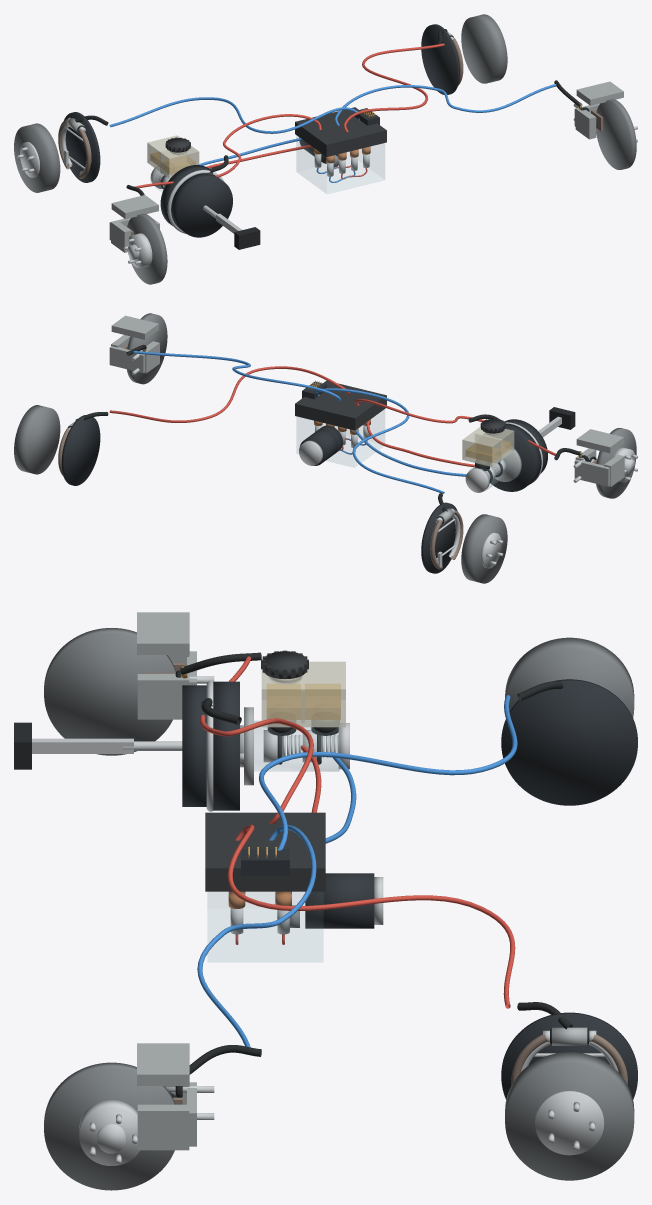
File: corolla_abs_on.glb
3 views of the same model, one above another, from view 1: azimuth 30°, elevation 25°; view 2: azimuth 150°, elevation 25°; view 3: azimuth 270°, elevation 25° (orthographic). The views are drawn at different scales.
Visible parts, largest first — view 1: Vacuum booster rear shell, ABS ECU sealed black electronic housing, RR REMOVED brake drum shell, ABS HCU machined aluminum hydraulic block, RF rotor friction disc, LR REMOVED brake drum shell, RR rear backing plate, LF rotor friction disc, LR rear backing plate, Dual chamber translucent fluid reservoir, ABS LR bent steel hardline, ABS RR bent steel hardline (+12 smaller); view 2: ABS ECU sealed black electronic housing, RR REMOVED brake drum shell, RR rear backing plate, LR REMOVED brake drum shell, Vacuum booster front shell, ABS HCU machined aluminum hydraulic block, Dual chamber translucent fluid reservoir, LR rear backing plate, RF rotor friction disc, LF rotor friction disc, ABS LR bent steel hardline, ABS RR bent steel hardline (+19 smaller); view 3: LR rear backing plate, LF rotor friction disc, RR REMOVED brake drum shell, RF rotor friction disc, ABS ECU sealed black electronic housing, ABS HCU machined aluminum hydraulic block, LR REMOVED brake drum shell, Dual chamber translucent fluid reservoir, RR rear backing plate, RR REMOVED drum mounting face, ABS pump motor, Vacuum booster front shell (+17 smaller).
Part boxes in pixels (x1,y1,x2,y2): Vacuum booster rear shell: (171,173,232,237); ABS ECU sealed black electronic housing: (295,107,386,156); RR REMOVED brake drum shell: (461,14,507,83); ABS HCU machined aluminum hydraulic block: (296,136,384,193); RF rotor friction disc: (596,99,636,169); LR REMOVED brake drum shell: (14,123,60,192); RR rear backing plate: (421,24,459,94); LF rotor friction disc: (127,213,167,284); LR rear backing plate: (64,112,100,182); Dual chamber translucent fluid reservoir: (147,135,199,178); ABS LR bent steel hardline: (109,97,359,133); ABS RR bent steel hardline: (343,43,444,132); ABS ECU sealed black electronic housing: (295,380,386,430); RR REMOVED brake drum shell: (14,405,60,474); RR rear backing plate: (61,415,100,485); LR REMOVED brake drum shell: (461,514,507,583); Vacuum booster front shell: (484,423,541,491); ABS HCU machined aluminum hydraulic block: (296,409,384,467); Dual chamber translucent fluid reservoir: (462,426,514,466); LR rear backing plate: (421,502,457,573); RF rotor friction disc: (127,313,167,384); LF rotor friction disc: (596,428,636,498); ABS LR bent steel hardline: (315,388,444,494); ABS RR bent steel hardline: (109,366,350,422); LR rear backing plate: (501,679,637,805); LF rotor friction disc: (44,628,176,755); RR REMOVED brake drum shell: (505,1052,634,1180); RF rotor friction disc: (44,1062,175,1190); ABS ECU sealed black electronic housing: (205,812,325,891); ABS HCU machined aluminum hydraulic block: (207,892,323,962); LR REMOVED brake drum shell: (505,637,634,717); Dual chamber translucent fluid reservoir: (261,661,345,727); RR rear backing plate: (501,1012,637,1099); RR REMOVED drum mounting face: (535,1090,604,1155); ABS pump motor: (305,873,374,928); Vacuum booster front shell: (213,681,239,810).
Size of the model in its own units: 14.65 by 2.42 by 8.31.
